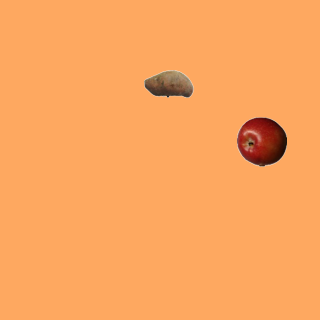Apple Braeburn: (236, 116, 286, 166)
Potato Sweet: (143, 58, 193, 108)
